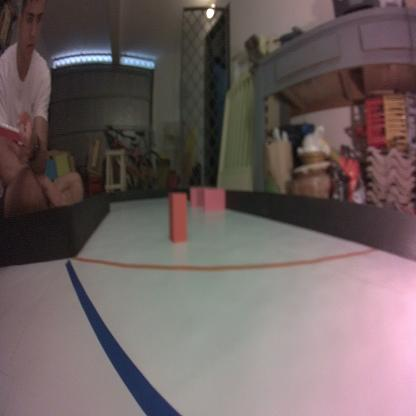magenta: (202, 186, 226, 213), (190, 185, 208, 204)
red: (169, 190, 187, 245)
